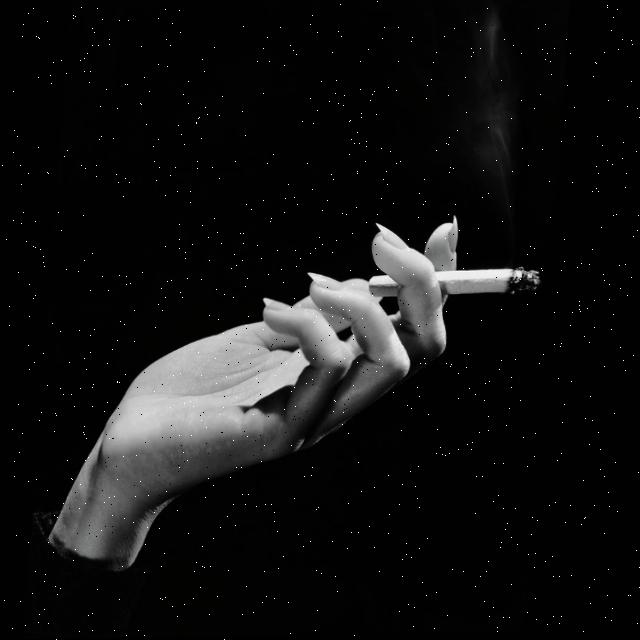cigarette: (372, 267, 547, 297)
